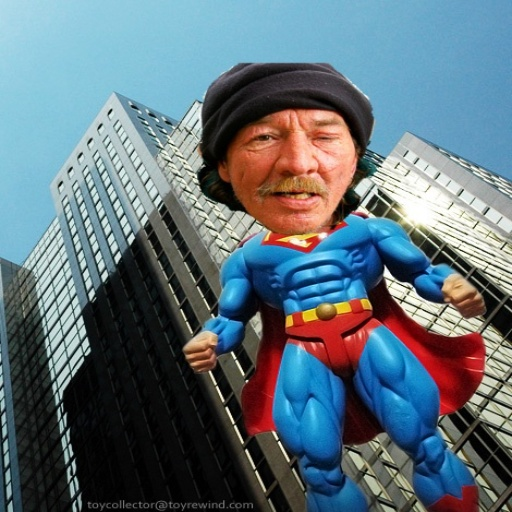hand: (439, 271, 488, 318), (183, 331, 218, 374)
